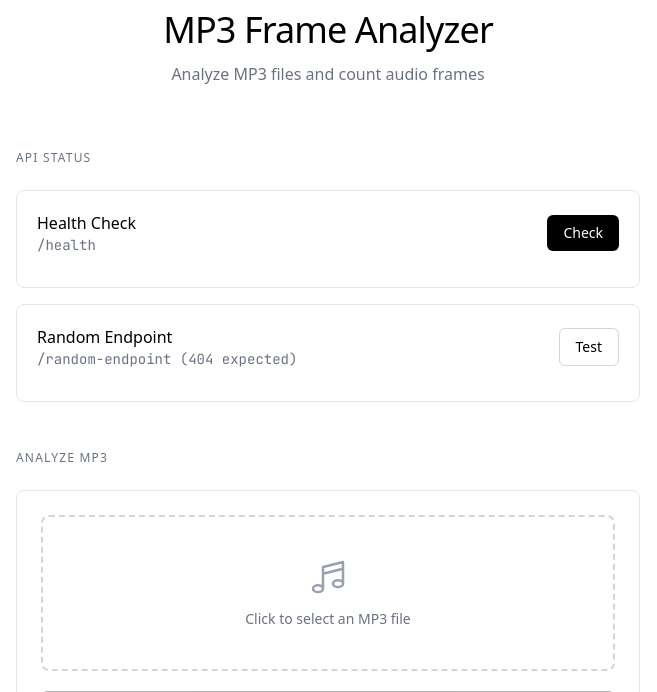
Test case: Home Page › Health Check functionality › displays error message on failed health check
Click the button "Check" at (583, 233), box [547,215,619,251]
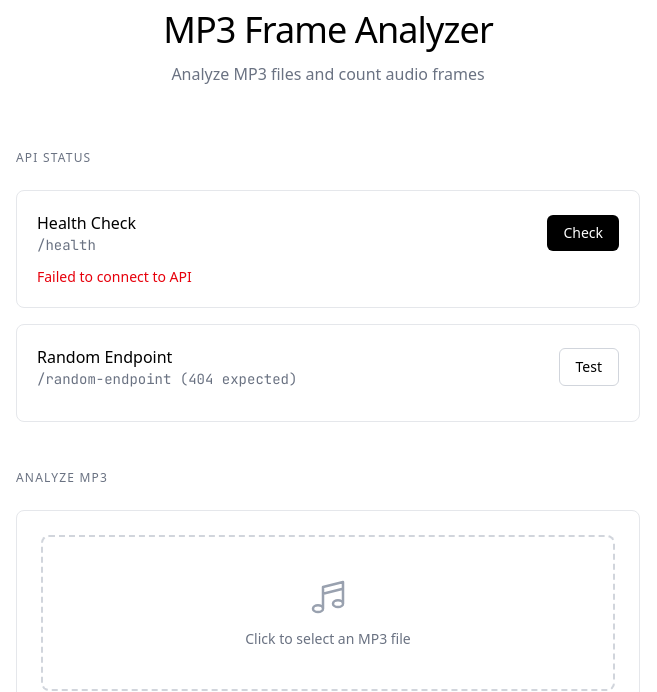
Expected: the text "Failed to connect to API" is shown, [37,267,192,286]
